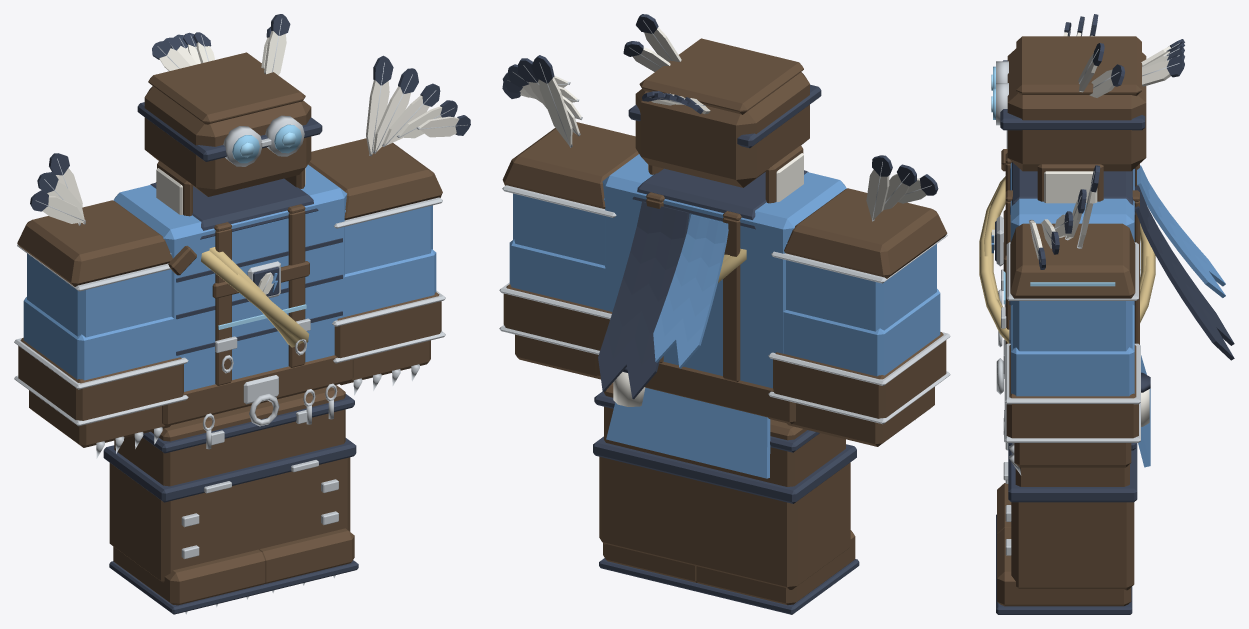
File: Climber.fbx
3 renders of one model, left to right at view 1: azimuth 30°, elevation 25°; view 2: azimuth 150°, elevation 25°; view 3: azimuth 270°, elevation 25°, orthographic. The views are drawn at different scales.
Visible parts, largest first — view 1: Armor_Climber_Chest_Jacket_Common, Armor_Climber_Helm_Leather_Common, Armor_Climber_GreaveR_Leather_Common, Armor_Climber_PauldronR_Leather_Common, Armor_Climber_PauldronR_Jacket_Common, Armor_Climber_BracerR_Jacket_Common, Armor_Climber_PauldronL_Leather_Common, Armor_Climber_GreaveL_Leather_Common, Armor_Climber_BracerR_Leather_Common, Armor_Climber_ThighR_Leather_Common, Armor_Climber_Belt_Leather_Common, Armor_Climber_Chest_Leather_Common (+37 smaller); view 2: Armor_Climber_Helm_Leather_Common, Armor_Climber_Chest_Jacket_Common, Armor_Climber_GreaveR_Leather_Common, Armor_Climber_Belt_JacketSway_Common, Armor_Climber_Chest_StormSway_Uncommon, Armor_Climber_PauldronR_Leather_Common, Armor_Climber_GreaveL_Leather_Common, Armor_Climber_PauldronR_Jacket_Common, Armor_Climber_BracerR_Jacket_Common, Armor_Climber_PauldronL_Leather_Common, Armor_Climber_BracerR_Leather_Common, Armor_Climber_Chest_JacketSway_Rare (+27 smaller); view 3: Armor_Climber_Helm_Leather_Common, Armor_Climber_GreaveL_Leather_Common, Armor_Climber_PauldronL_Leather_Common, Armor_Climber_PauldronL_Jacket_Common, Armor_Climber_BracerL_Jacket_Common, Armor_Climber_BracerL_Leather_Common, Armor_Climber_BootL_Leather_Common, Armor_Climber_Chest_StormSway_Uncommon, Armor_Climber_GloveL_Leather_Common, Armor_Climber_Chest_Jacket_Common, Armor_Climber_GreaveL_Storm_Common, Armor_Climber_Chest_JacketSway_Rare (+22 smaller).
Boxes of the visible parts, bbox=[...] form: Armor_Climber_Chest_Jacket_Common: bbox=[113, 164, 346, 391]; Armor_Climber_Helm_Leather_Common: bbox=[144, 52, 311, 216]; Armor_Climber_GreaveR_Leather_Common: bbox=[109, 463, 260, 582]; Armor_Climber_PauldronR_Leather_Common: bbox=[17, 200, 172, 286]; Armor_Climber_PauldronR_Jacket_Common: bbox=[27, 253, 171, 337]; Armor_Climber_BracerR_Jacket_Common: bbox=[23, 297, 174, 380]; Armor_Climber_PauldronL_Leather_Common: bbox=[308, 138, 442, 220]; Armor_Climber_GreaveL_Leather_Common: bbox=[257, 457, 350, 548]; Armor_Climber_BracerR_Leather_Common: bbox=[18, 337, 183, 420]; Armor_Climber_ThighR_Leather_Common: bbox=[114, 406, 256, 486]; Armor_Climber_Belt_Leather_Common: bbox=[162, 355, 353, 426]; Armor_Climber_Chest_Leather_Common: bbox=[156, 182, 309, 385]; Armor_Climber_Helm_Leather_Common: bbox=[635, 38, 809, 203]; Armor_Climber_Chest_Jacket_Common: bbox=[602, 154, 846, 388]; Armor_Climber_GreaveR_Leather_Common: bbox=[692, 462, 850, 589]; Armor_Climber_Belt_JacketSway_Common: bbox=[606, 387, 770, 478]; Armor_Climber_Chest_StormSway_Uncommon: bbox=[598, 201, 689, 399]; Armor_Climber_PauldronR_Leather_Common: bbox=[784, 188, 947, 278]; Armor_Climber_GreaveL_Leather_Common: bbox=[599, 456, 696, 565]; Armor_Climber_PauldronR_Jacket_Common: bbox=[786, 243, 936, 331]; Armor_Climber_BracerR_Jacket_Common: bbox=[783, 289, 940, 376]; Armor_Climber_PauldronL_Leather_Common: bbox=[502, 122, 638, 208]; Armor_Climber_BracerR_Leather_Common: bbox=[773, 332, 946, 418]; Armor_Climber_Chest_JacketSway_Rare: bbox=[653, 214, 728, 368]; Armor_Climber_Helm_Leather_Common: bbox=[1007, 36, 1146, 201]; Armor_Climber_GreaveL_Leather_Common: bbox=[1011, 502, 1134, 590]; Armor_Climber_PauldronL_Leather_Common: bbox=[1010, 223, 1135, 298]; Armor_Climber_PauldronL_Jacket_Common: bbox=[1013, 301, 1132, 351]; Armor_Climber_BracerL_Jacket_Common: bbox=[1011, 305, 1134, 396]; Armor_Climber_BracerL_Leather_Common: bbox=[1006, 345, 1138, 438]; Armor_Climber_BootL_Leather_Common: bbox=[997, 527, 1131, 606]; Armor_Climber_Chest_StormSway_Uncommon: bbox=[1135, 185, 1234, 360]; Armor_Climber_GloveL_Leather_Common: bbox=[1014, 443, 1131, 467]; Armor_Climber_Chest_Jacket_Common: bbox=[1010, 163, 1134, 347]; Armor_Climber_GreaveL_Storm_Common: bbox=[1008, 446, 1137, 502]; Armor_Climber_Chest_JacketSway_Rare: bbox=[1137, 165, 1225, 297].
Size of the model in its own units: 489 by 585 by 240.
